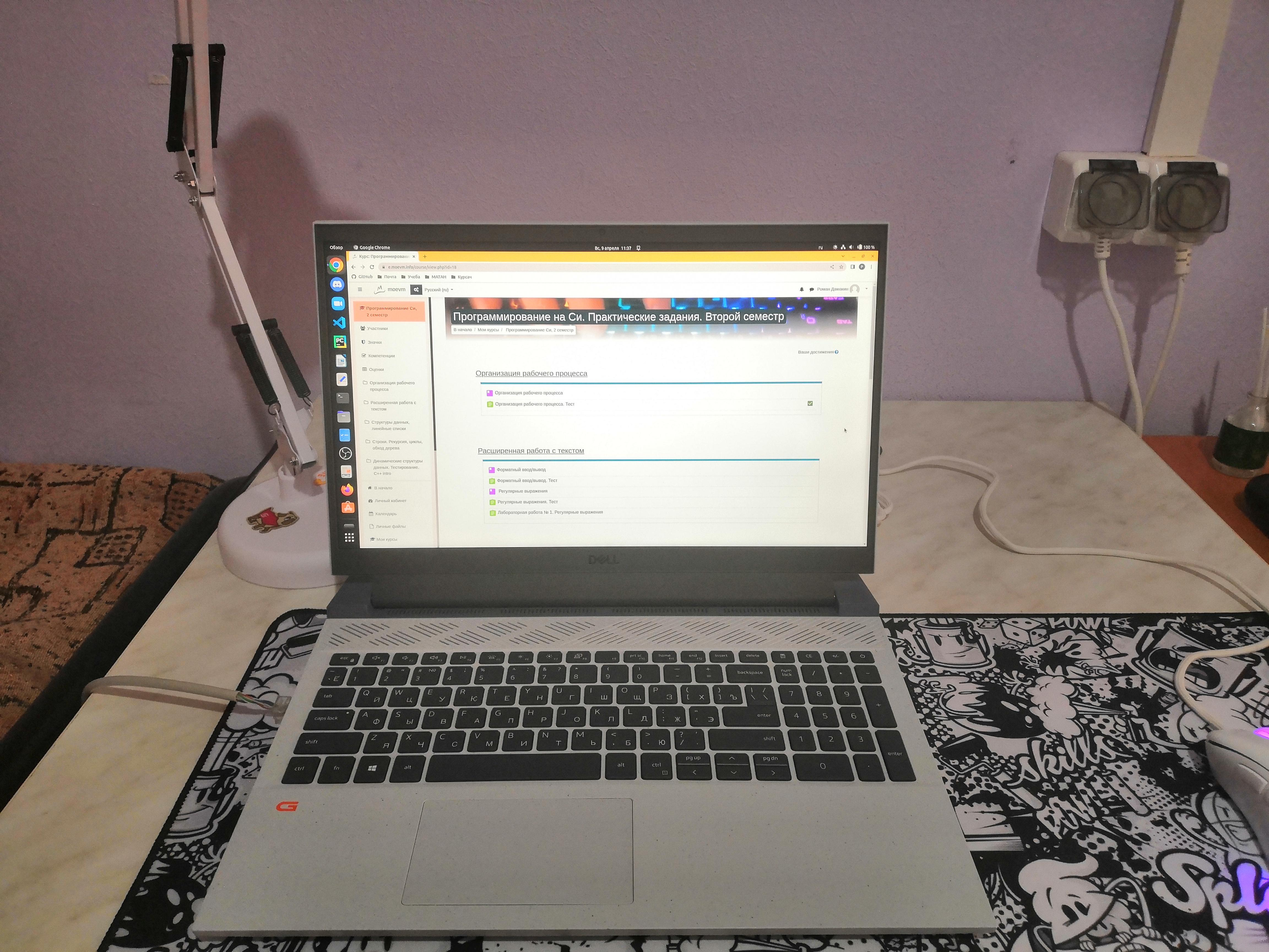monitor: (312, 216, 886, 586)
